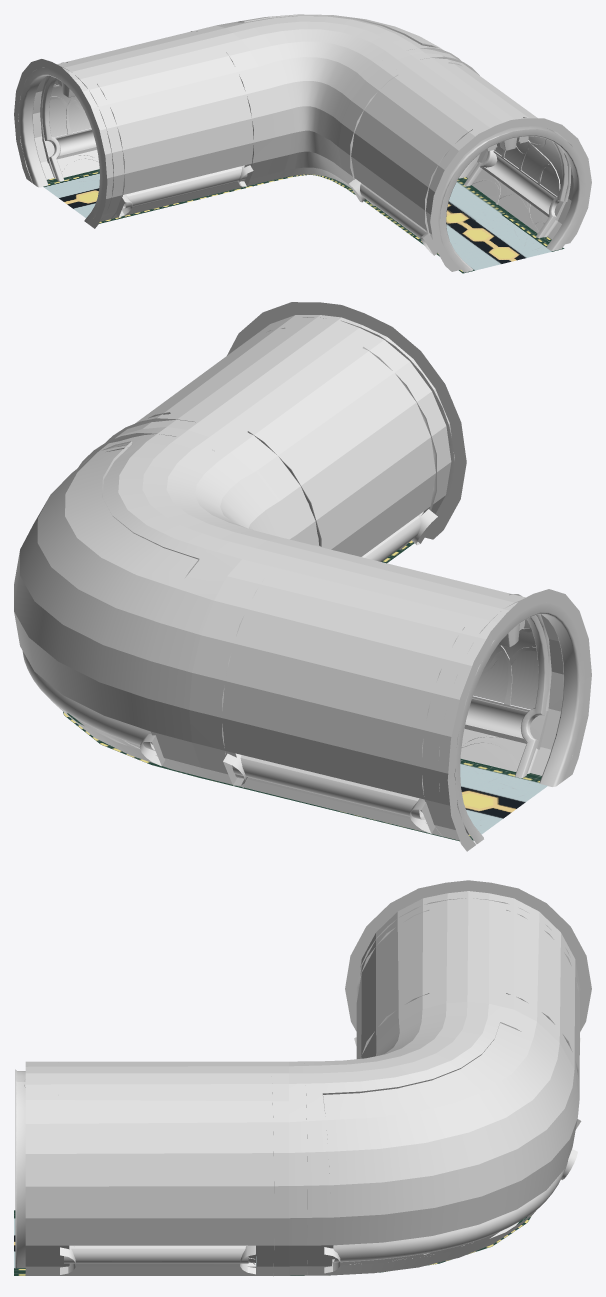
The model's file is Hallway_Final_Bend_Decimate.fbx.
3 views of the same model, one above another, from view 1: azimuth 30°, elevation 25°; view 2: azimuth 150°, elevation 25°; view 3: azimuth 270°, elevation 25° (orthographic). The views are drawn at different scales.
Parts seen in each view (by area): view 1: polySurface7307; view 2: polySurface7307; view 3: polySurface7307.
Part boxes in pixels (left/top/right/bottom): polySurface7307: left=14, top=14, right=591, bottom=273; polySurface7307: left=14, top=302, right=591, bottom=851; polySurface7307: left=14, top=880, right=591, bottom=1276.
Size of the model in its own units: 2104 by 762 by 2191.
5 materials, 1 textured.
